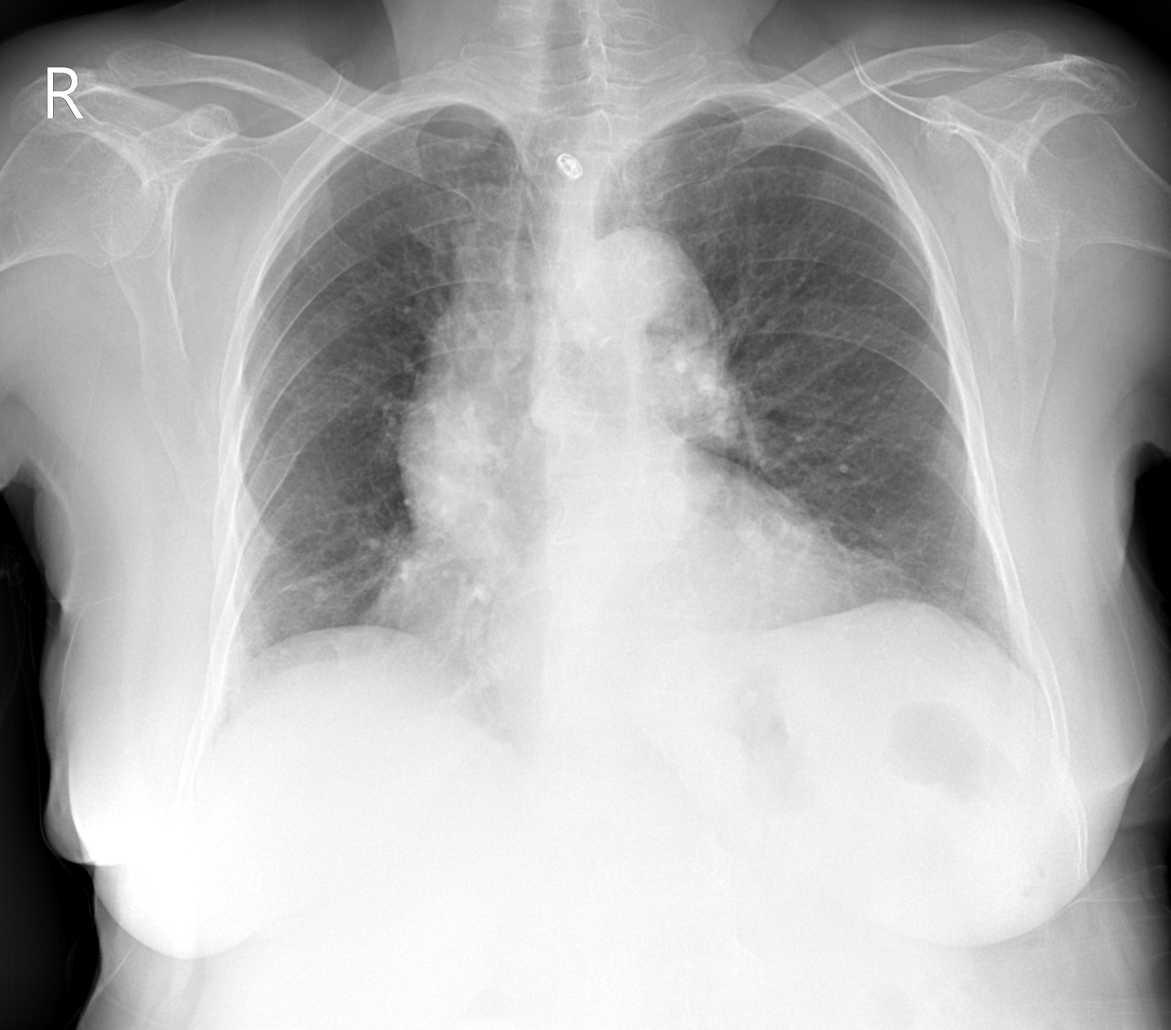Aortic enlargement: (405, 241, 724, 579)
